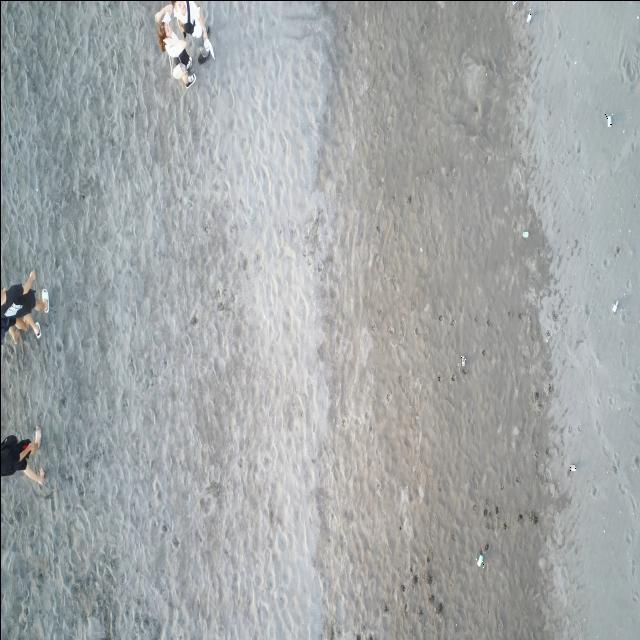Garbage: (476, 552, 483, 567), (604, 112, 612, 125), (611, 300, 617, 312), (527, 12, 532, 23), (568, 464, 575, 471), (460, 355, 464, 367), (522, 230, 527, 238)
